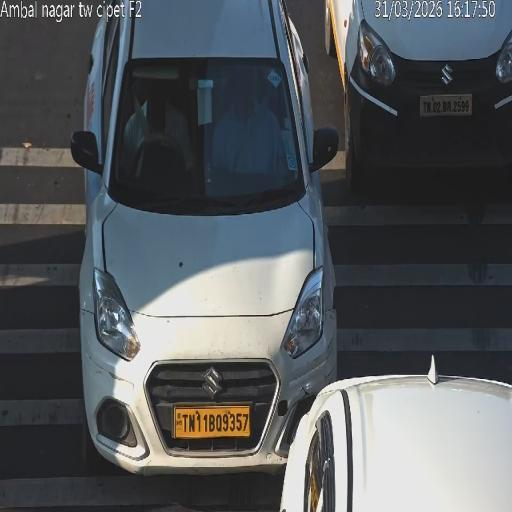person_with_seatbelt: (234, 90, 271, 178), (129, 89, 156, 152)
